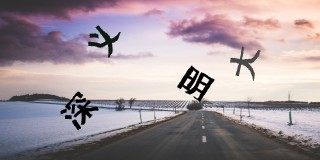义: (89, 25, 121, 58)
大: (229, 46, 261, 81)
明: (177, 65, 214, 101)
深: (59, 90, 99, 130)
